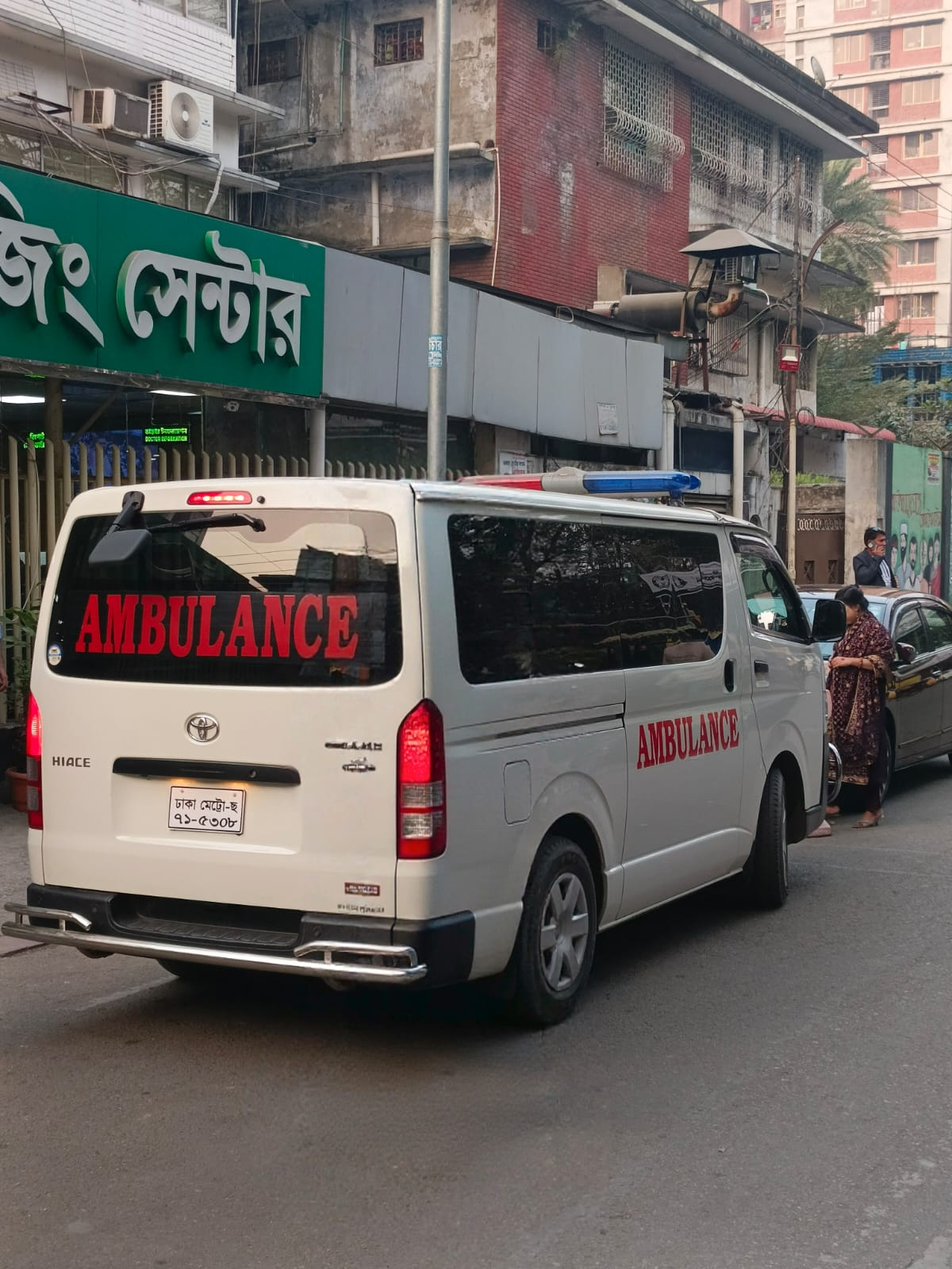Ambulance: (13, 410, 834, 1020)
private car: (764, 556, 952, 760)
